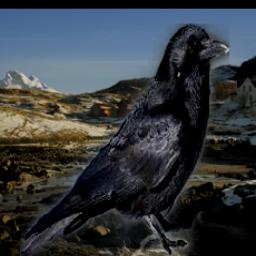Crow: (20, 25, 229, 256)
